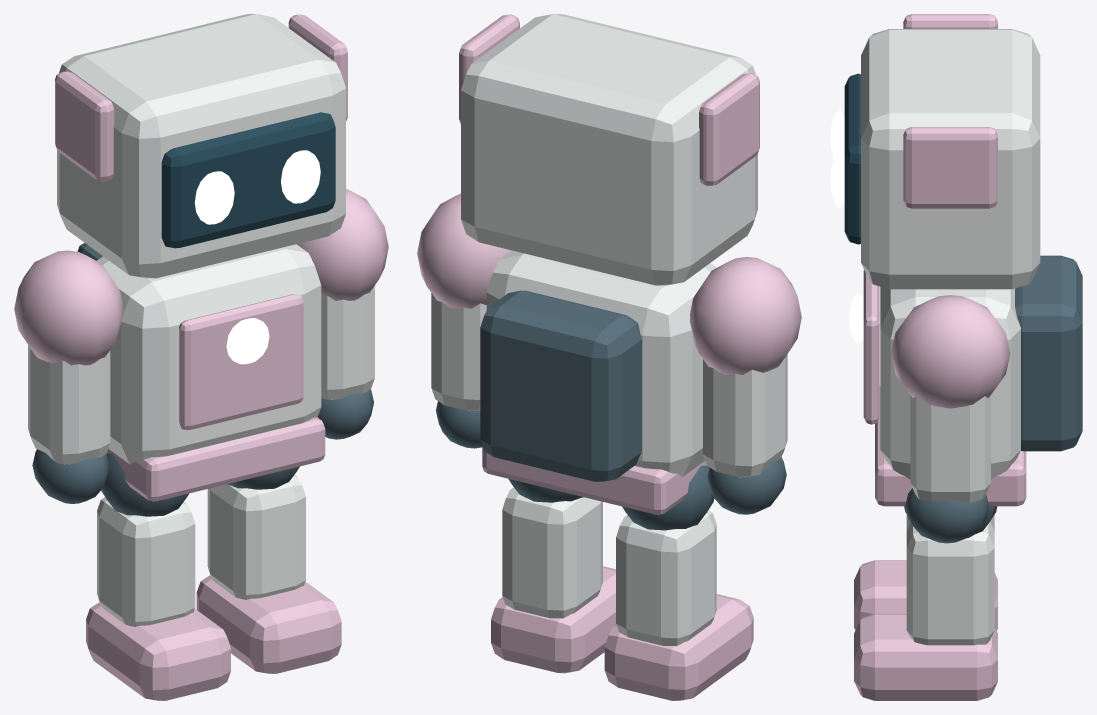
File: rune.glb
3 views of the same model, side by side, from view 1: azimuth 30°, elevation 25°; view 2: azimuth 150°, elevation 25°; view 3: azimuth 270°, elevation 25° (orthographic). The views are drawn at different scales.
Parts seen in each view (by area): view 1: Head, Torso, Visor, Chest plate, Leg.019, Leg, Shoulder.019, Boot.019, Boot, Belt, Arm.019, Shoulder (+10 smaller); view 2: Head, Pack, Torso, Leg.019, Leg, Shoulder.019, Boot.019, Arm.019, Boot, Shoulder, Belt, Ear fins.005 (+6 smaller); view 3: Head, Pack, Shoulder, Torso, Leg, Boot, Arm, Ear fins, Belt, Boot.019, Hand, Visor (+5 smaller).
Boxes of the visible parts, x1,y1,x2,y2 form: Head: (57,14,345,278); Torso: (97,244,321,464); Visor: (161,112,335,248); Chest plate: (179,294,303,430); Leg.019: (97,497,195,626); Leg: (207,475,305,599); Shoulder.019: (14,250,122,365); Boot.019: (86,602,230,700); Boot: (196,575,341,673); Belt: (106,417,325,501); Arm.019: (28,345,110,464); Shoulder: (297,189,388,300); Head: (461,14,757,285); Pack: (480,290,641,481); Torso: (486,250,716,476); Leg.019: (616,510,716,646); Leg: (502,487,602,618); Shoulder.019: (690,257,801,374); Boot.019: (604,594,753,700); Arm.019: (703,354,787,477); Boot: (491,566,616,673); Shoulder: (417,193,511,308); Belt: (482,446,706,514); Ear fins.005: (699,73,759,185); Head: (861,29,1040,289); Pack: (1015,255,1082,451); Shoulder: (891,295,1010,408); Torso: (880,286,1020,479); Leg: (906,522,994,645); Boot: (854,613,997,700); Arm: (910,395,990,502); Ear fins: (903,127,997,208); Belt: (875,387,1026,506); Boot.019: (854,560,997,630); Hand: (905,488,989,543); Visor: (844,73,860,244).
Bounding box in the file's own units: 1.16 × 1.85 × 0.717.
